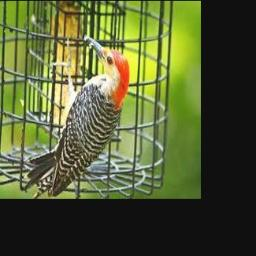Woodpecker: (27, 34, 130, 197)
